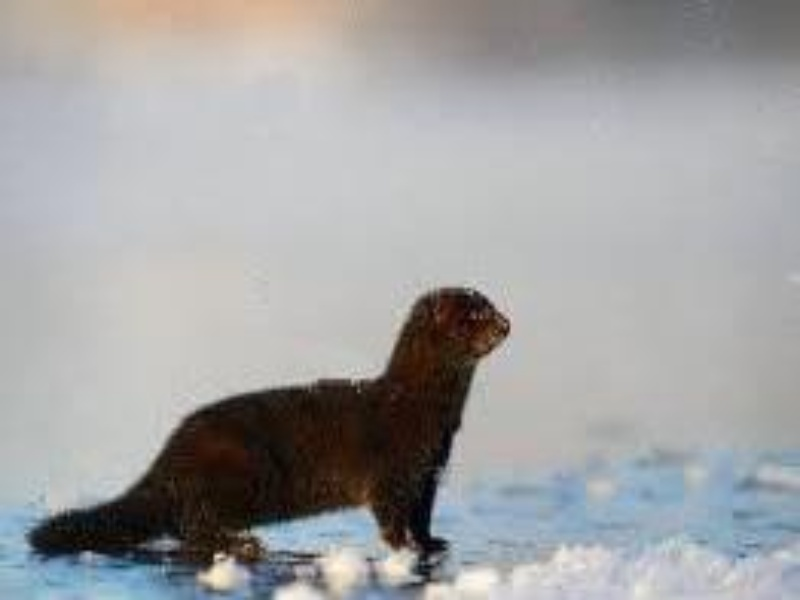minkish: (26, 281, 517, 572)
